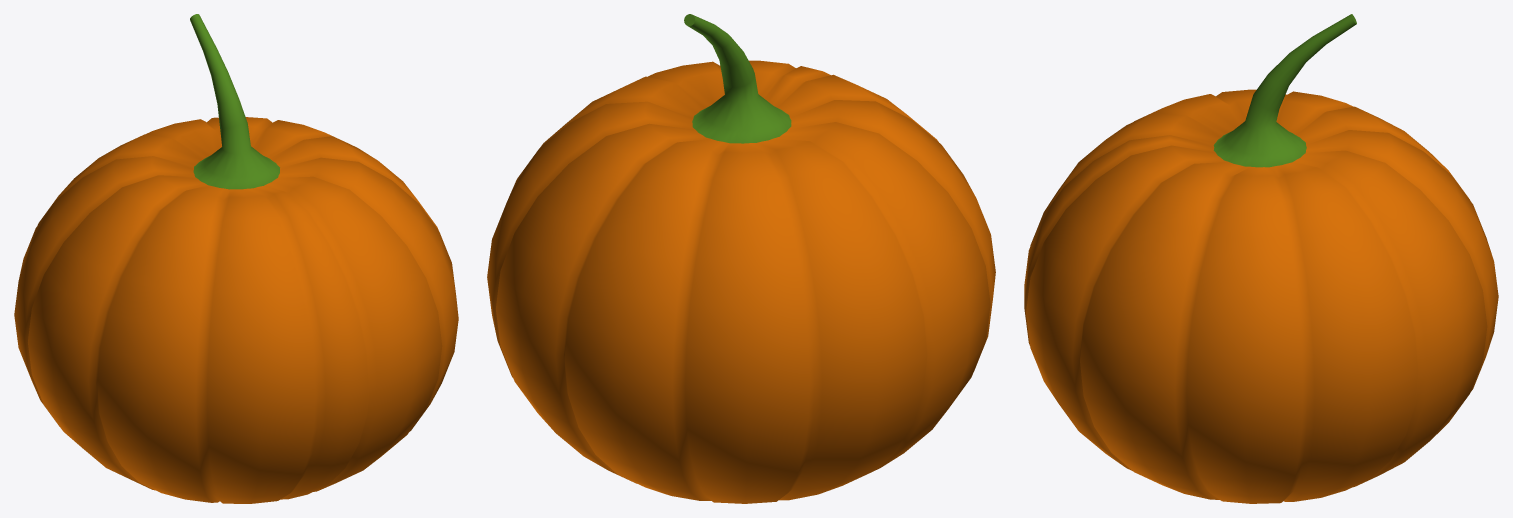
The model's file is prop32.fbx.
3 views of the same model, side by side, from view 1: azimuth 30°, elevation 25°; view 2: azimuth 150°, elevation 25°; view 3: azimuth 270°, elevation 25° (orthographic). The views are drawn at different scales.
Visible parts, largest first — view 1: Sphere.001; view 2: Sphere.001; view 3: Sphere.001.
Boxes of the visible parts, x1,y1,x2,y2 form: Sphere.001: [14, 14, 458, 503]; Sphere.001: [487, 14, 995, 503]; Sphere.001: [1024, 14, 1498, 503].
Bounding box in the file's own units: 1.15 × 1.15 × 1.23.
